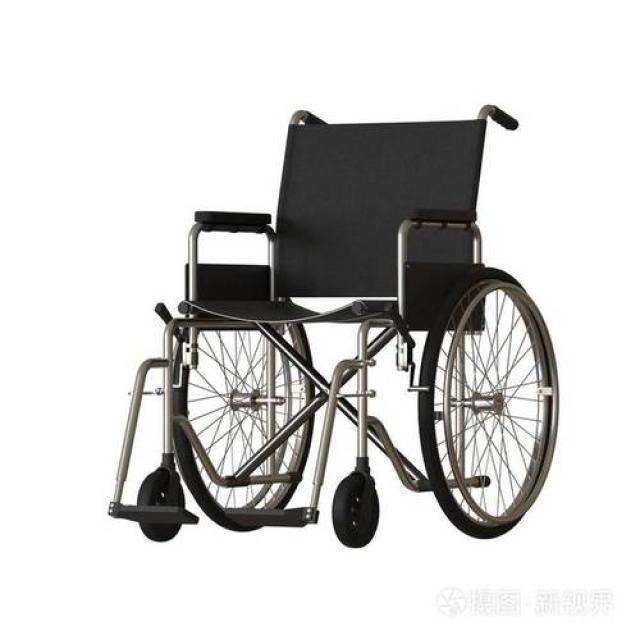wheelchairs: (81, 84, 572, 567)
